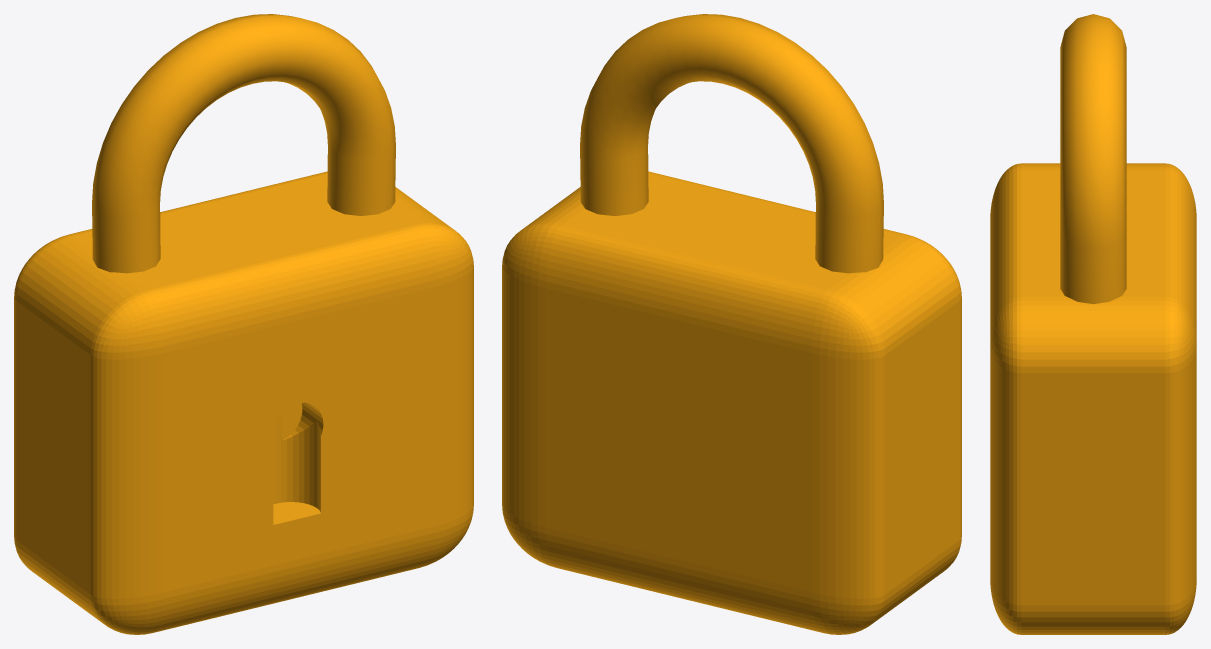
Rendered from Lock_Model.fbx.
3 renders of one model, left to right at view 1: azimuth 30°, elevation 25°; view 2: azimuth 150°, elevation 25°; view 3: azimuth 270°, elevation 25°, orthographic. The views are drawn at different scales.
Visible parts, largest first — view 1: Cube.057; view 2: Cube.057; view 3: Cube.057.
Part boxes in pixels (x1,y1,x2,y2): Cube.057: [14, 14, 473, 634]; Cube.057: [502, 14, 961, 634]; Cube.057: [990, 14, 1196, 634].
Bounding box in the file's own units: 166 × 230 × 80.37.
